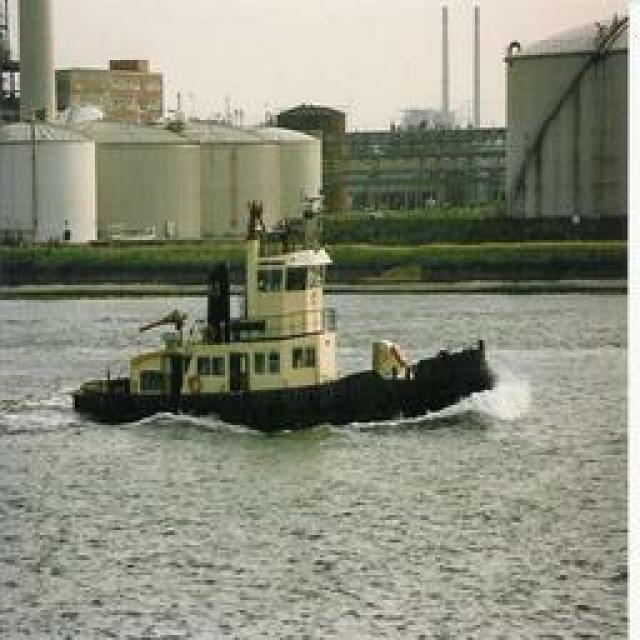ship2: (70, 231, 497, 438)
